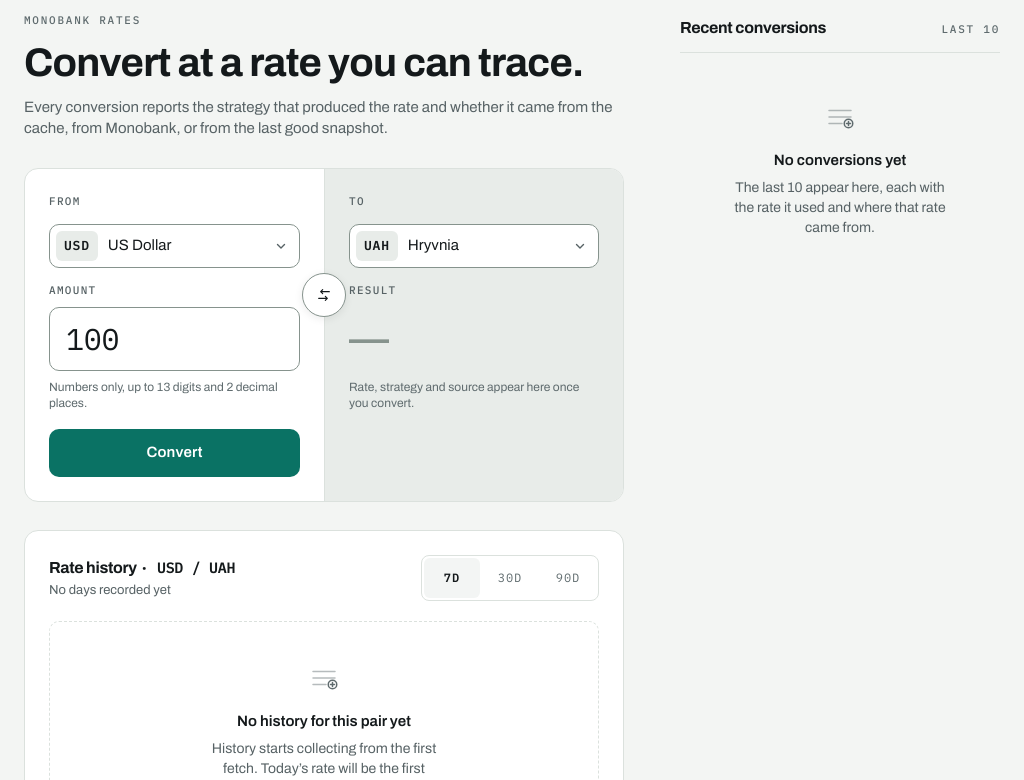
Scenario: an answer served from the archive › dates its rates to the archived day, with no time of day
The image size is (1024, 780).
Click the button "Convert" at (174, 453), box [49,429,300,477]
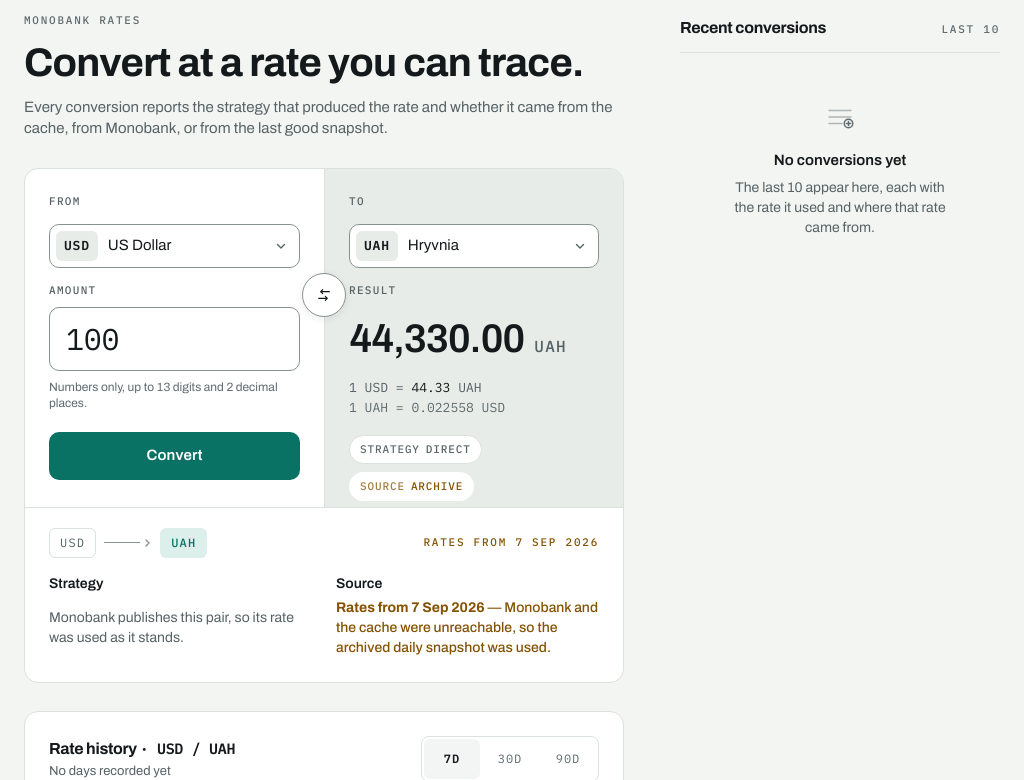
Result: the text "Rates from 7 Sep 2026" is shown 2 times at [423,536,599,550]; [336,600,485,615]
